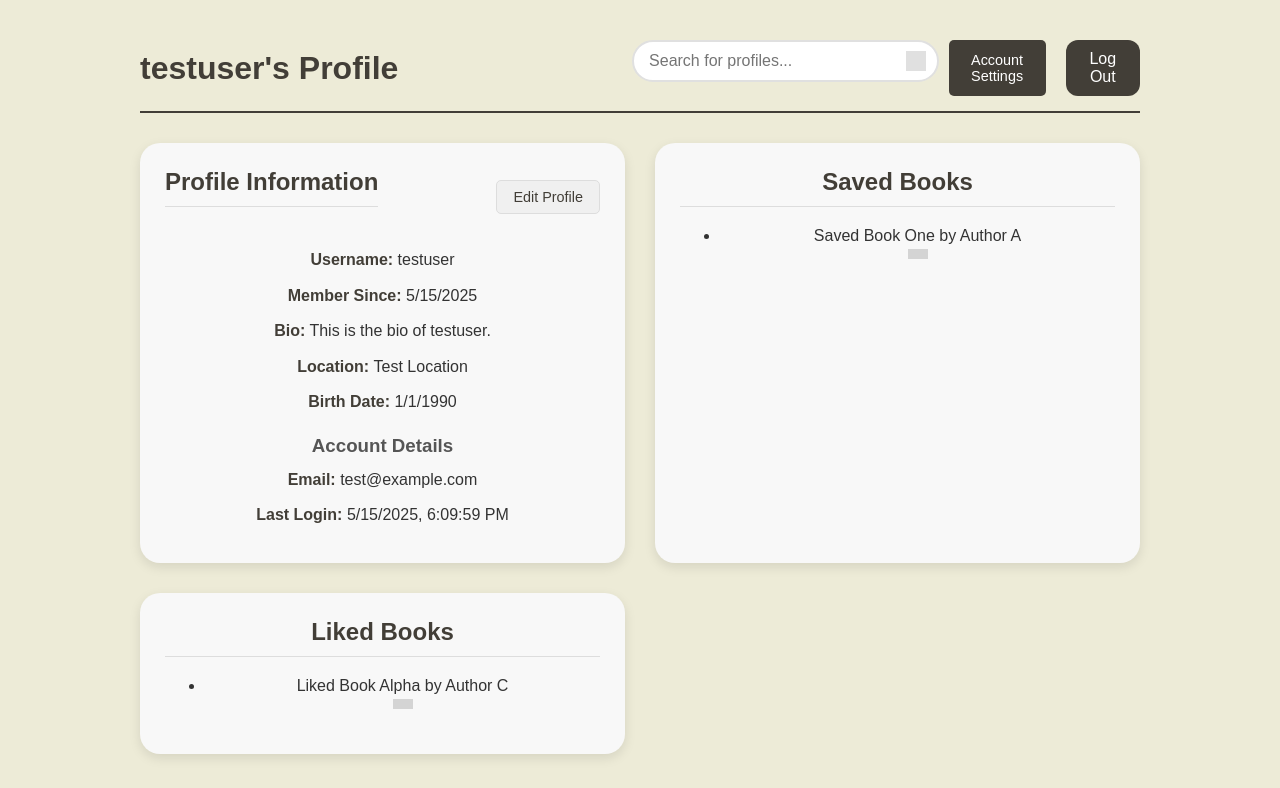
ProfilePage Component - Initial Rendering › Profile Editing (Own Profile) › toggles edit mode, displays form with correct initial values, and cancels
This screenshot has width=1280, height=788.
Expected: the text "This is the bio of testuser." is shown, [309,322,491,339]
What coordinates should you click on to do the following:
click the button "Edit Profile"
I would click on:
 (548, 198)
Its box is [496,180,600,214].
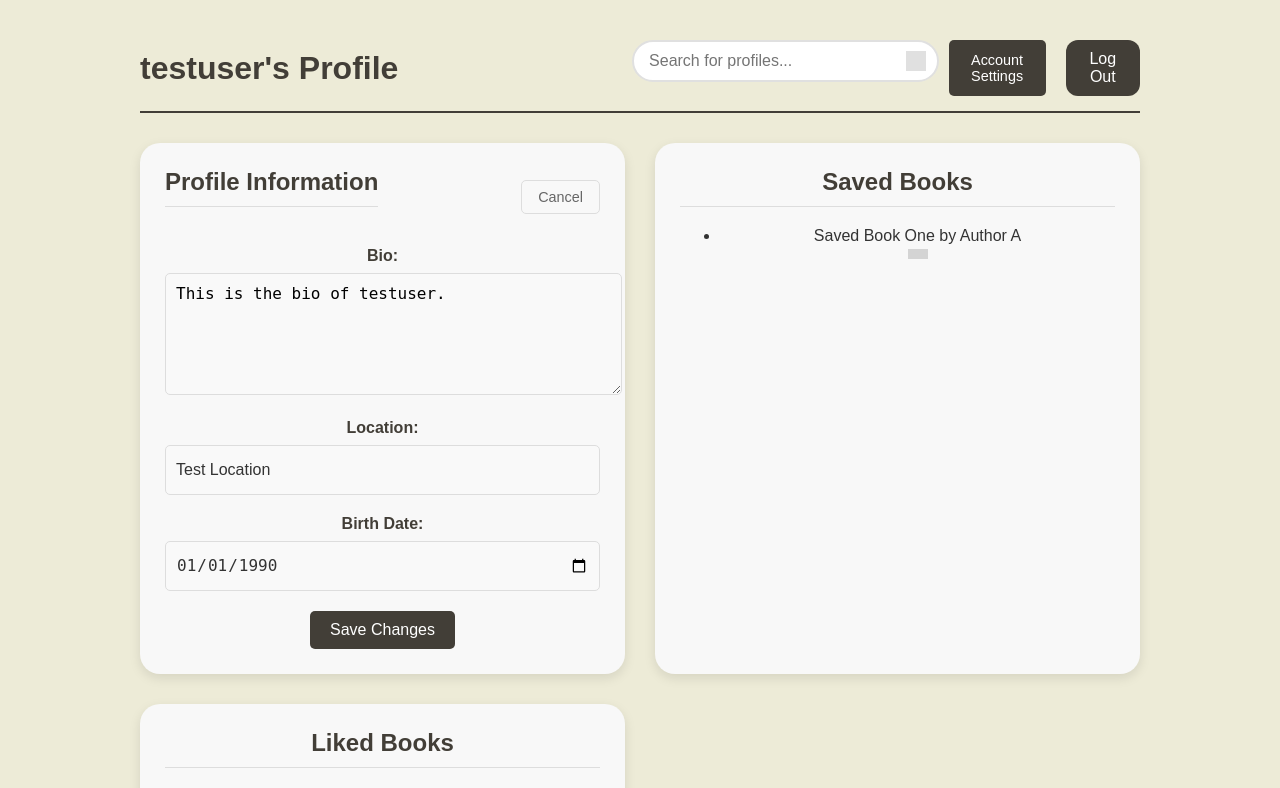
Expected: the form named "edit profile form" is shown, [165,247,600,649]
Expected: the text box labelled "Bio:" holds "This is the bio of testuser.", [165,273,622,395]
Expected: the field labelled "Location:" holds "Test Location", [165,445,600,495]
What coordinates should you click on to do the following:
click the button "Cancel"
I would click on:
 (561, 198)
Its box is [521,180,600,214].
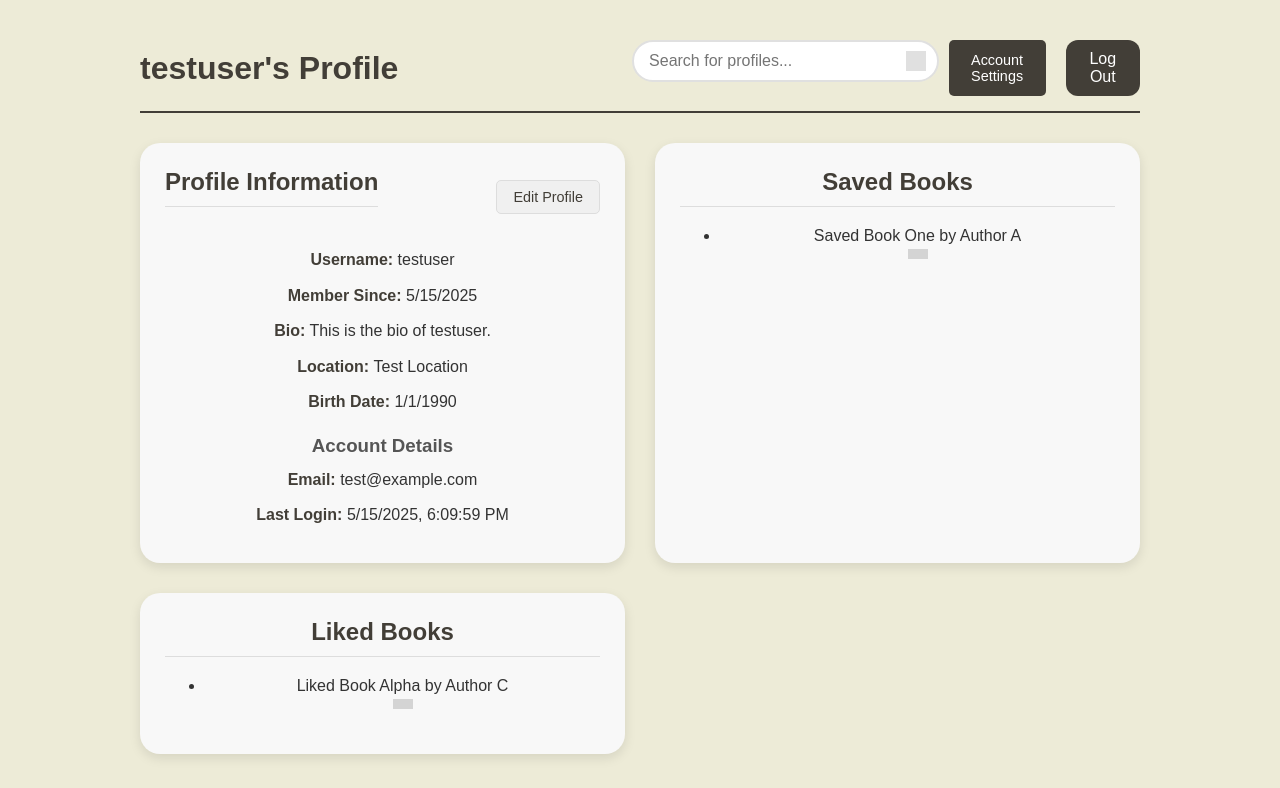
Expected: the form "Bio: Location: Birth Date: Save Changes" is gone
Expected: the text "This is the bio of testuser." is shown, [309,322,491,339]
Expected: the button "Edit Profile" is shown, [496,180,600,214]
